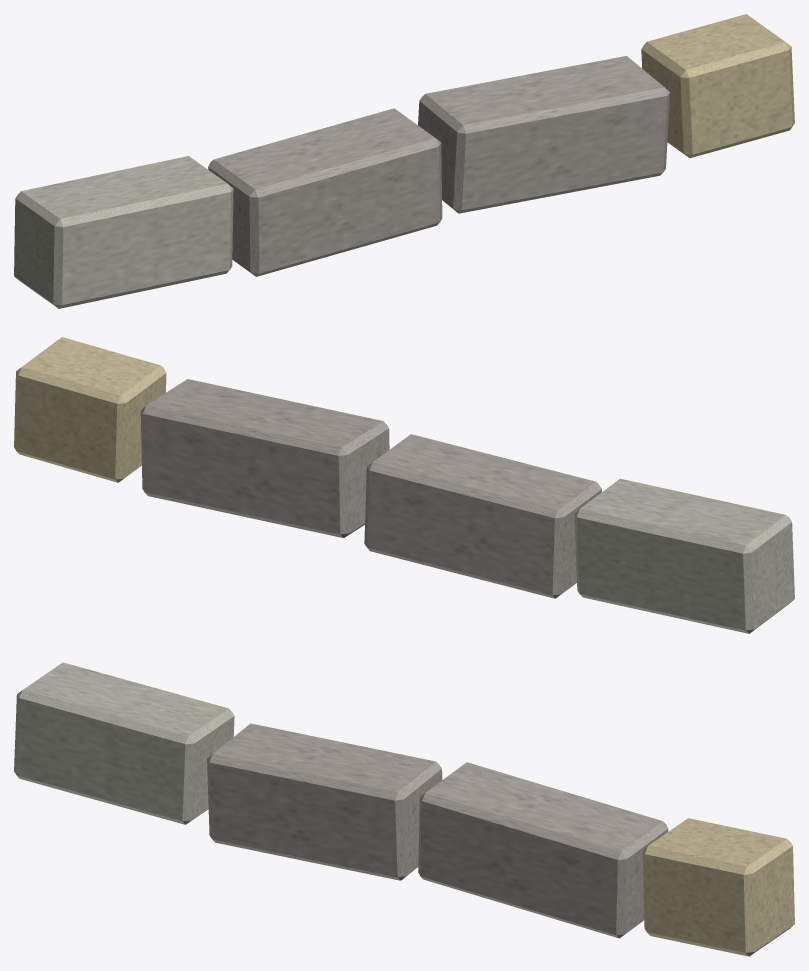
File: Bordure_Pierre_A.obj
3 views of the same model, one above another, from view 1: azimuth 30°, elevation 25°; view 2: azimuth 150°, elevation 25°; view 3: azimuth 330°, elevation 25° (orthographic).
Visible parts, largest first — view 1: Bordure_Pierre_A; view 2: Bordure_Pierre_A; view 3: Bordure_Pierre_A.
Boxes of the visible parts, x1,y1,x2,y2 form: Bordure_Pierre_A: (14,14,794,308); Bordure_Pierre_A: (14,337,794,633); Bordure_Pierre_A: (14,662,794,956).
Size of the model in its own units: 7.87 by 1.06 by 0.9234.
1 material, 1 textured.
